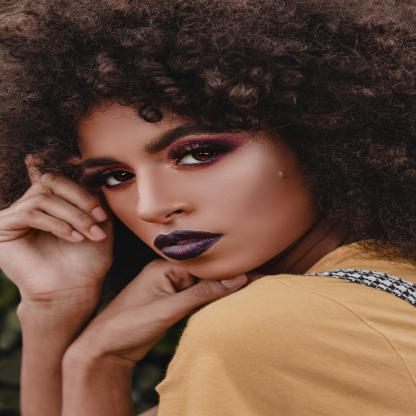Eye: (155, 136, 240, 171), (92, 163, 140, 191)
Mouth: (147, 226, 232, 264)
Nose: (135, 167, 200, 226)
